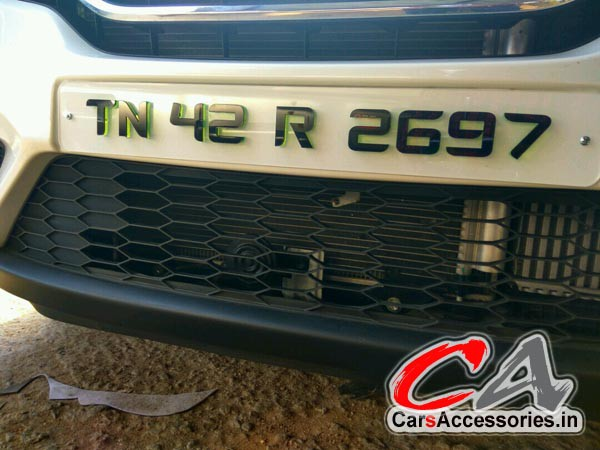numberPlate: (61, 83, 597, 178)
